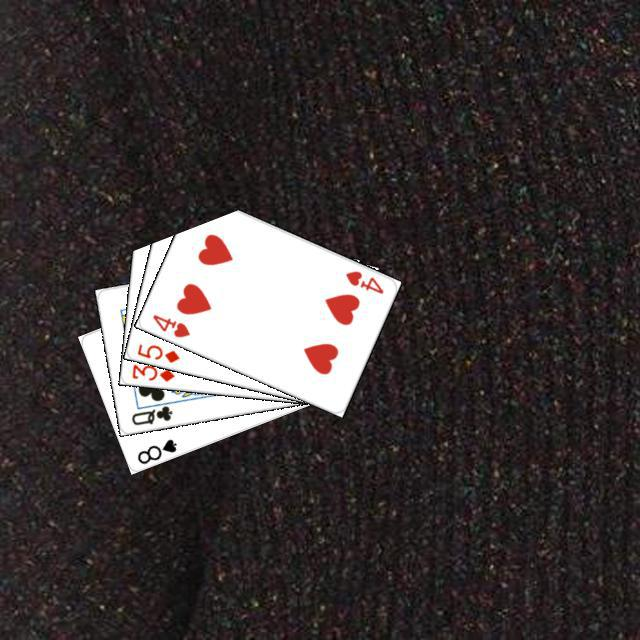3d: (127, 359, 176, 383)
4h: (340, 266, 385, 296), (148, 309, 192, 339)
5d: (132, 339, 181, 365)
8s: (132, 434, 179, 466)
Qc: (126, 396, 177, 427)
